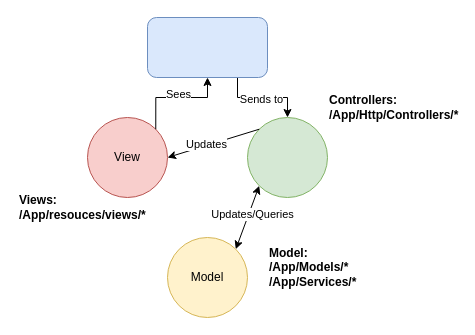
This 475x335 diagram has some shape labels left out. Each missing label, with the centre of its shape:
"Controller" belongs at pixel 287 157.
"User" belongs at pixel 207 47.
